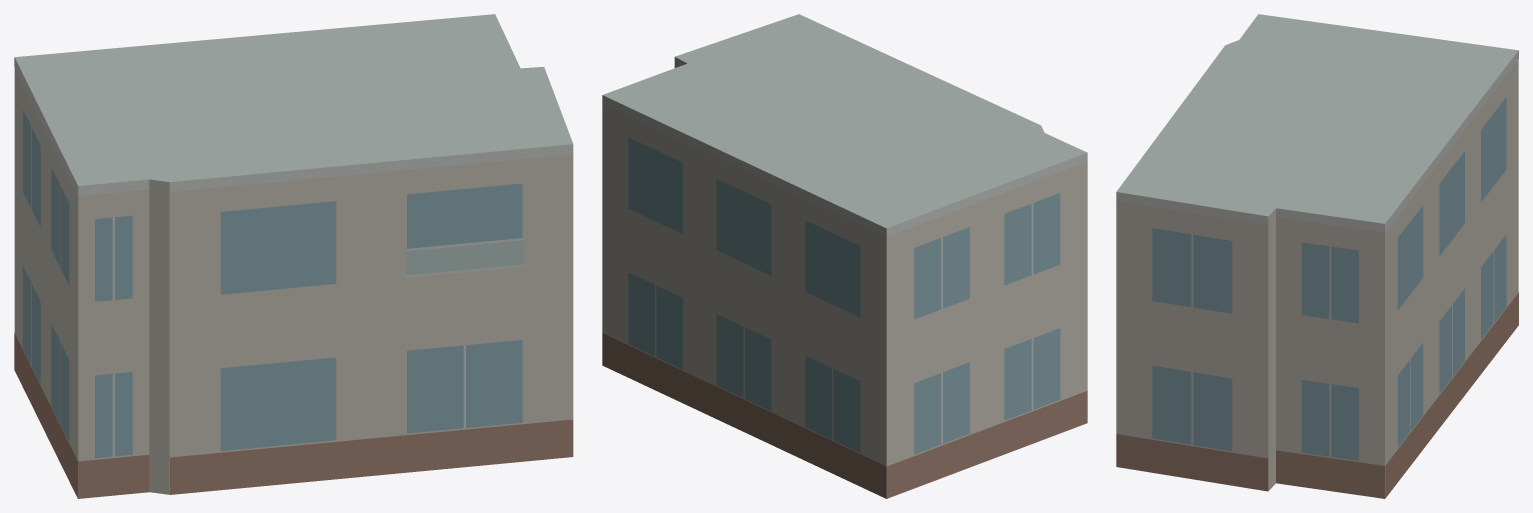
Rendered from survey-upis-32505829.glb.
The picture shows the model from 3 angles, left to right: view 1: azimuth 30°, elevation 25°; view 2: azimuth 150°, elevation 25°; view 3: azimuth 270°, elevation 25°; orthographic projection. The views are drawn at different scales.
Visible parts, largest first — view 1: survey-upis-32505829.tmp; view 2: survey-upis-32505829.tmp; view 3: survey-upis-32505829.tmp.
Boxes of the visible parts, <box> form: survey-upis-32505829.tmp: <box>14,14,573,498</box>; survey-upis-32505829.tmp: <box>602,14,1087,498</box>; survey-upis-32505829.tmp: <box>1116,14,1518,498</box>.
Size of the model in its own units: 12.45 by 7.6 by 10.09.
